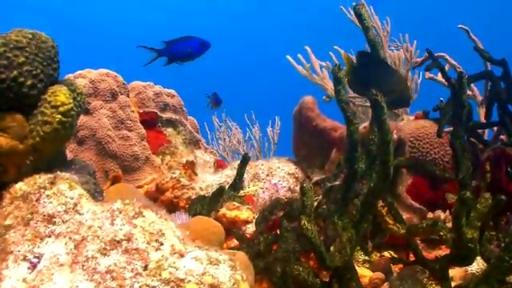Fish: (343, 51, 412, 110), (137, 36, 211, 66), (206, 92, 223, 109), (322, 95, 333, 102)
